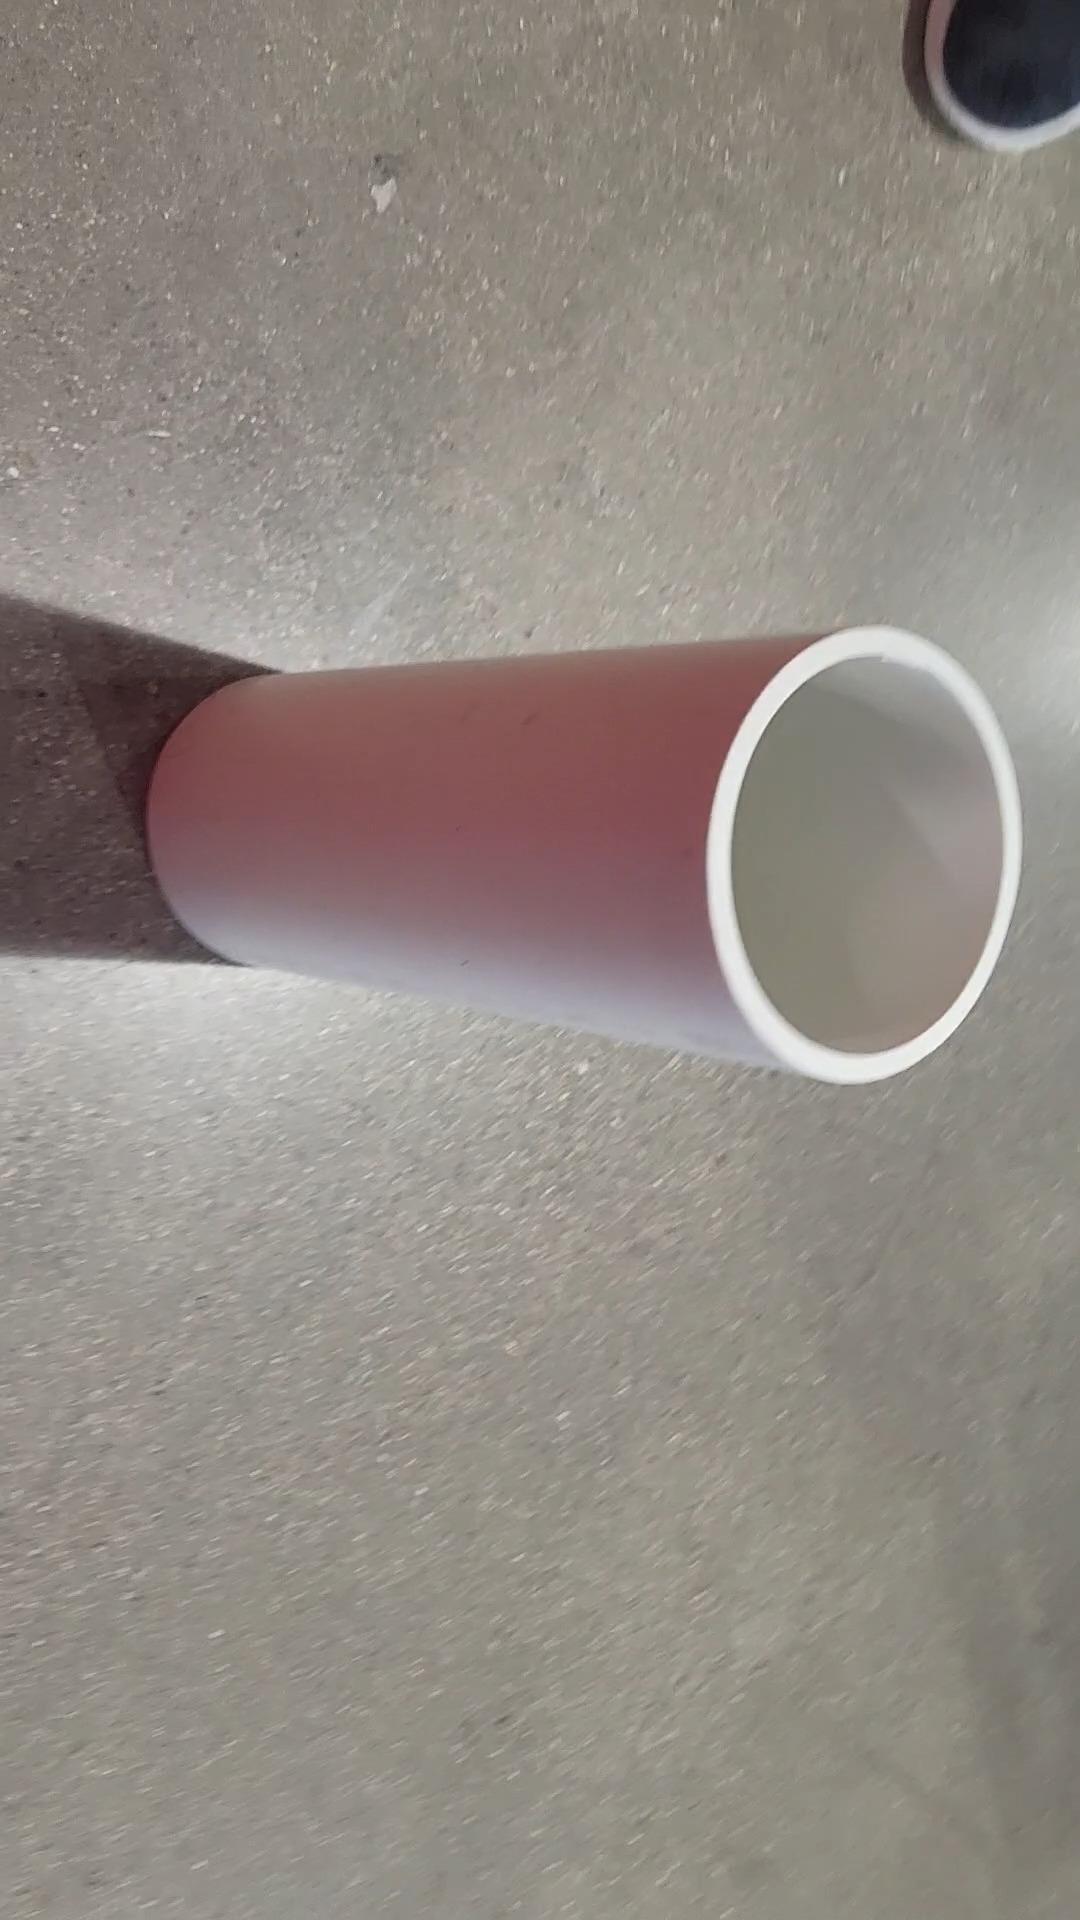coral: (148, 622, 1018, 1083)
